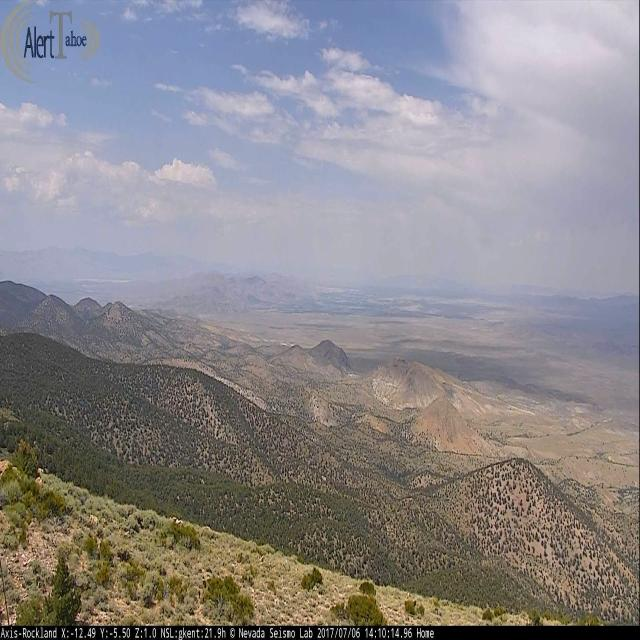smoke: (312, 292, 323, 304)
